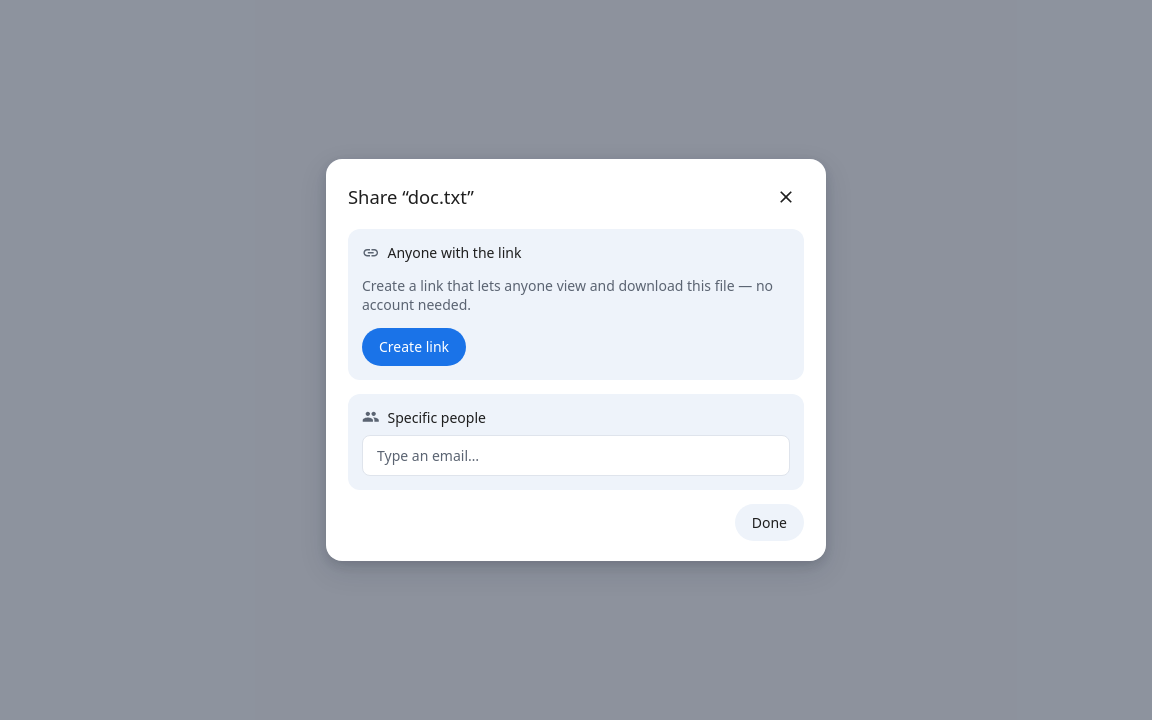
Test case: ShareDialog › says so when a typed email matches no local account
Type "stranger@elsewhere.com" into the field named "Add people by email" at point(576, 455), box 362,434 -> 790,476
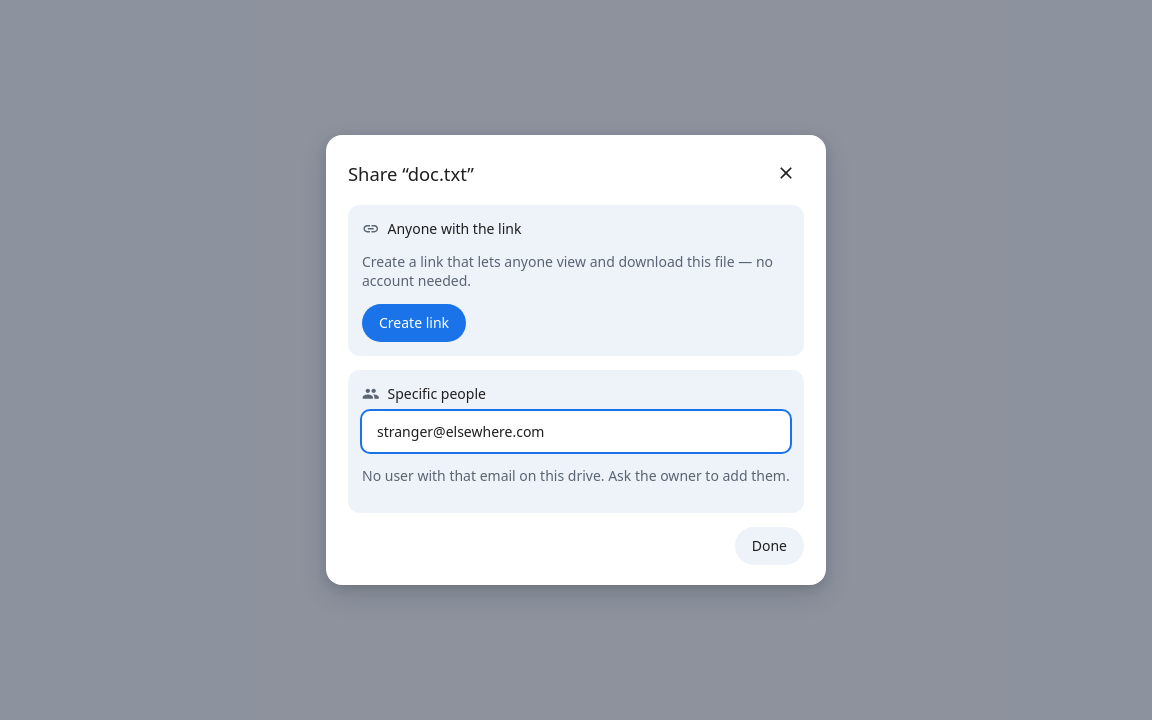
expect the text "No user with that email on this drive" is shown: met, box 362,466 -> 790,485
